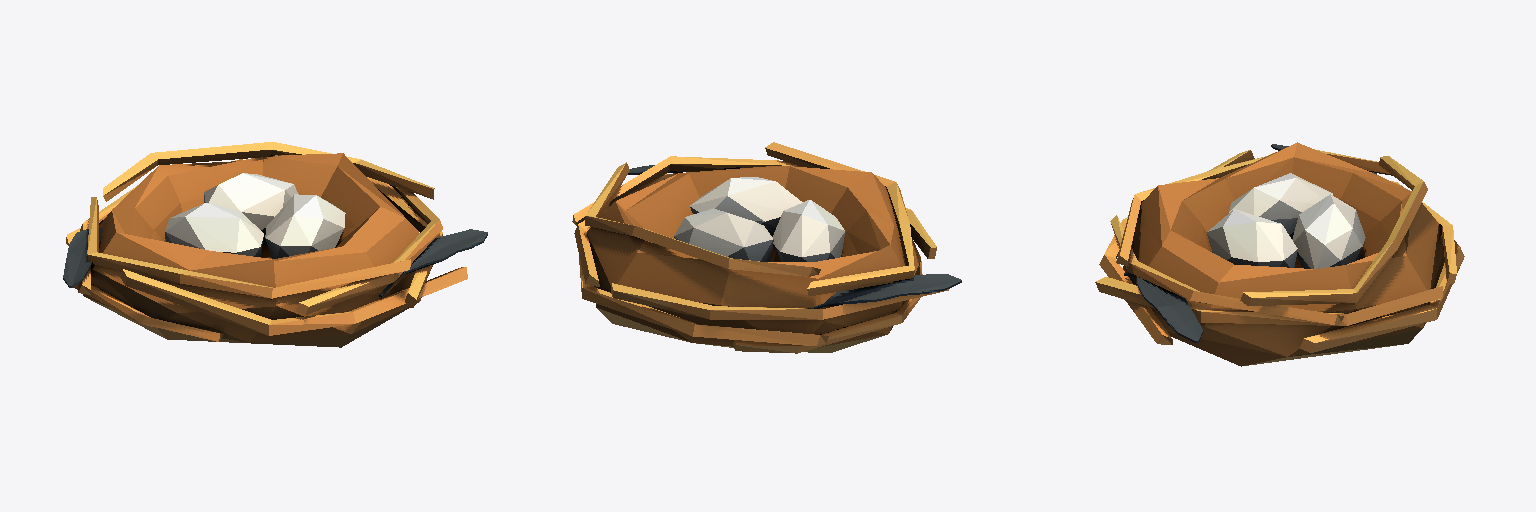
3 views of the same model, side by side, from view 1: azimuth 30°, elevation 25°; view 2: azimuth 150°, elevation 25°; view 3: azimuth 270°, elevation 25° (orthographic).
Visible parts, largest first — view 1: birds_nest; view 2: birds_nest; view 3: birds_nest.
Boxes of the visible parts, <box> form: birds_nest: <box>63,142,487,347</box>; birds_nest: <box>572,142,961,353</box>; birds_nest: <box>1095,142,1464,366</box>.
Bounding box in the file's own units: 2.32 × 0.695 × 1.95.
1 materials, 1 textured.